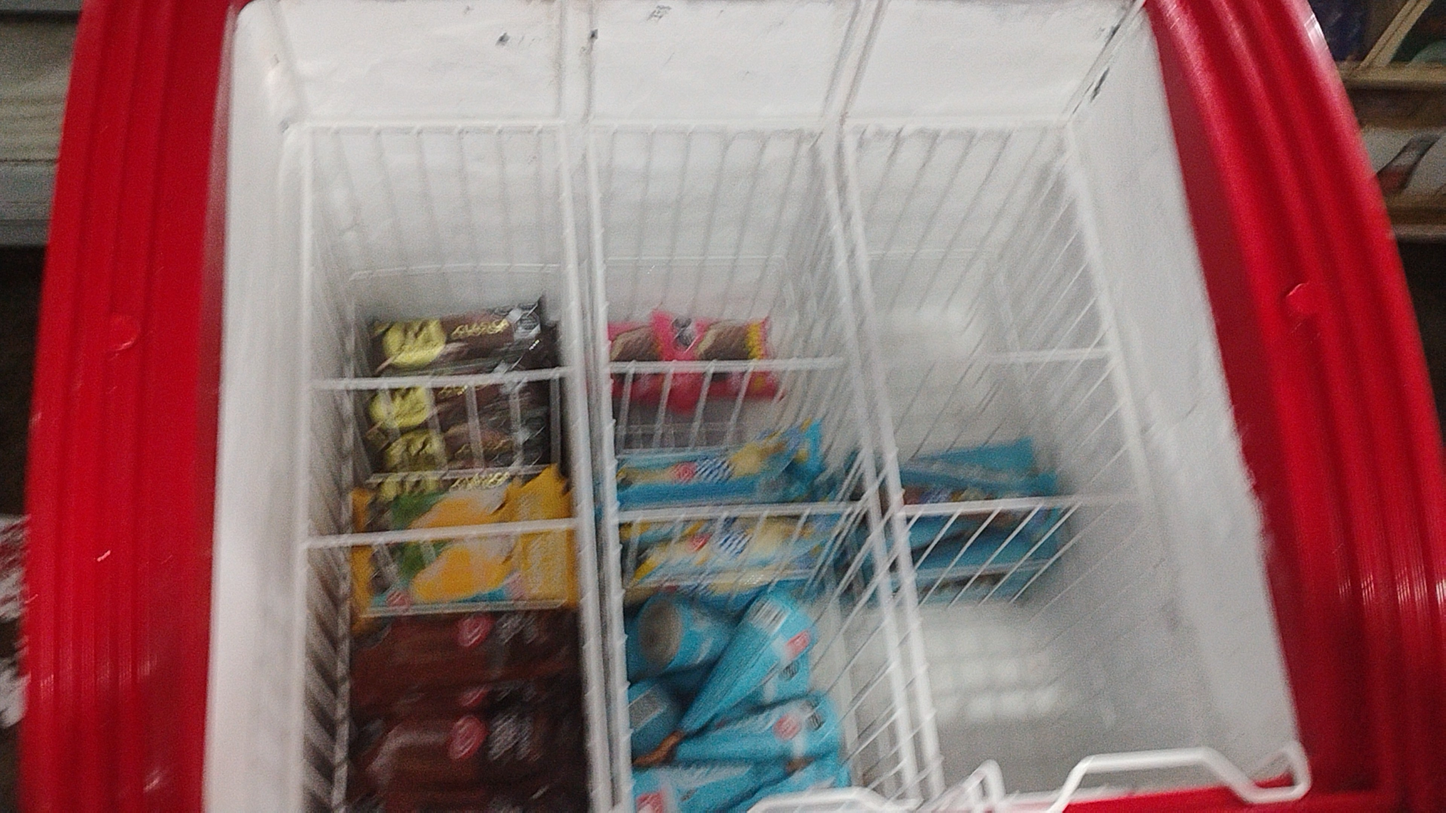Magnum clasica: (372, 362, 554, 425), (378, 425, 550, 466), (367, 316, 549, 346)
